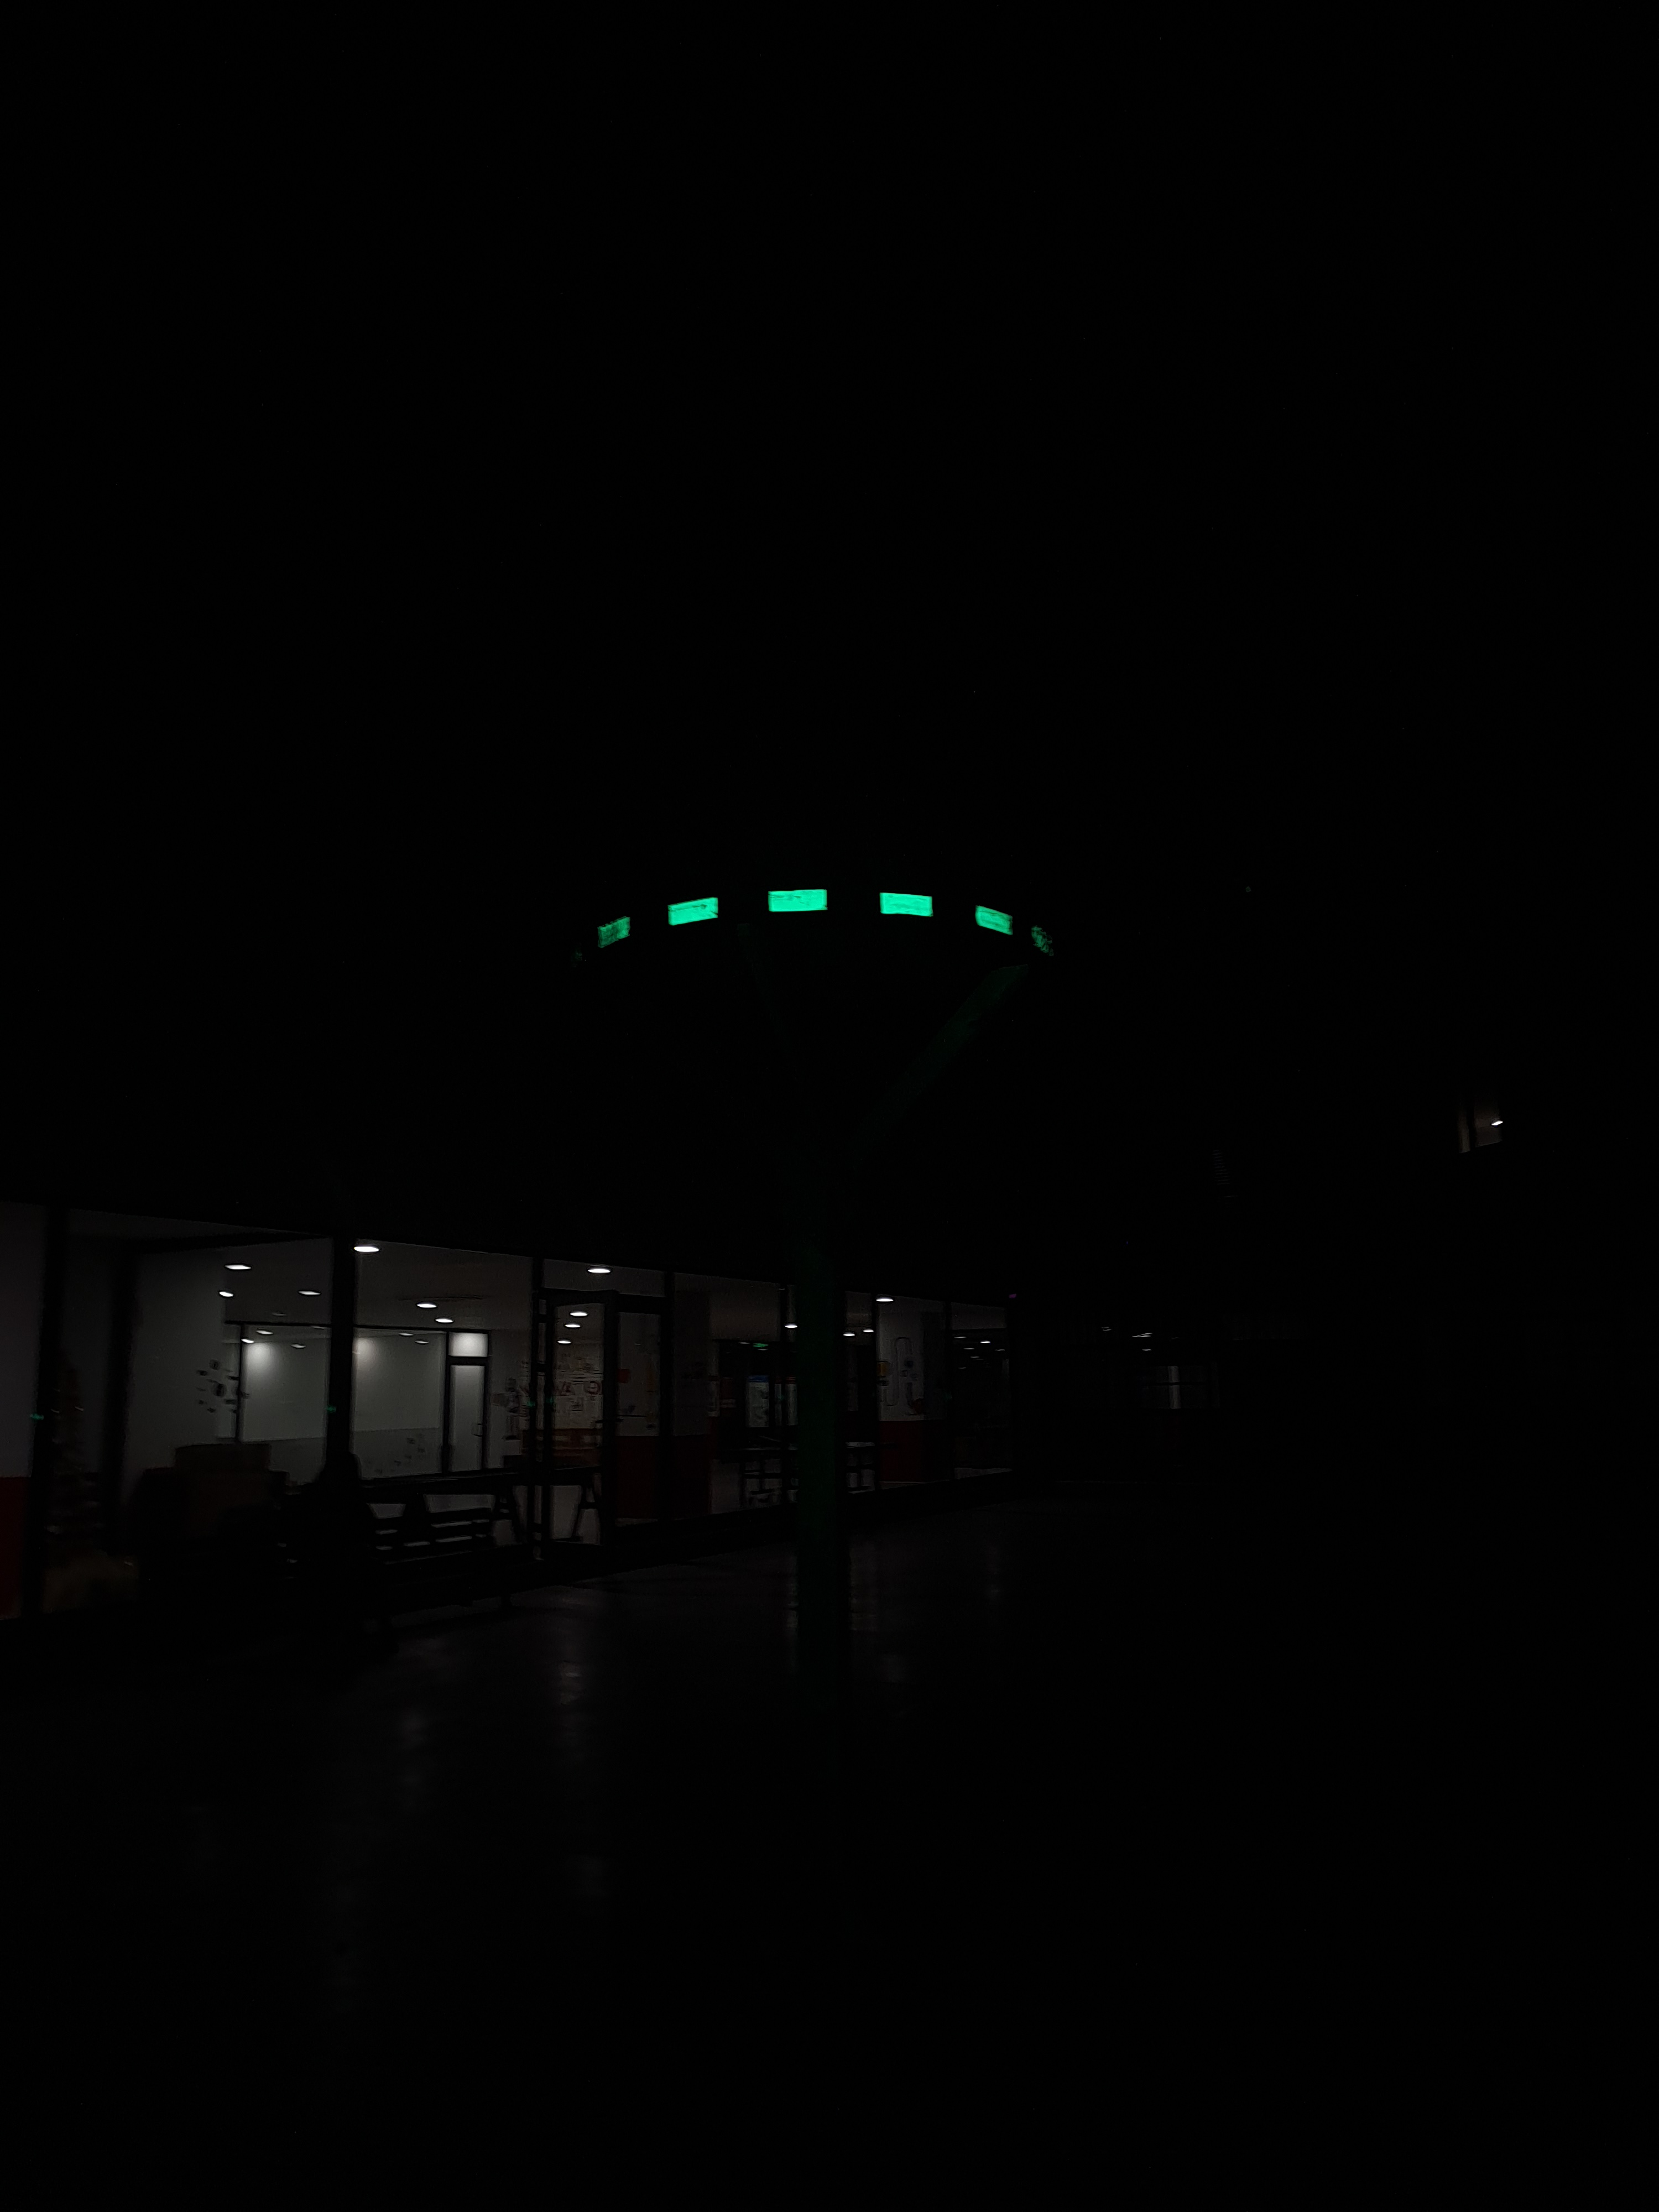hoop: (591, 883, 1054, 972)
